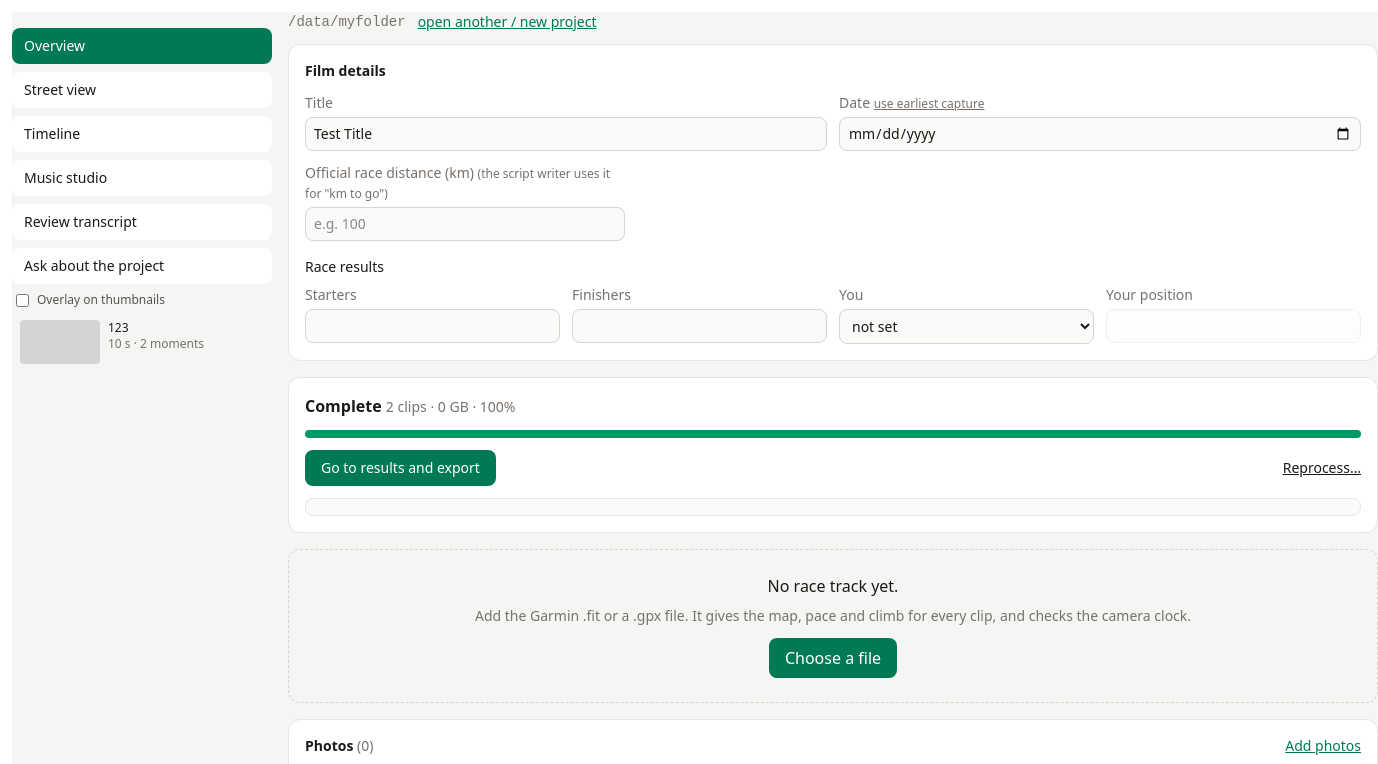
Test: Workspace › the progress panel's results button opens the timeline (film preview and final render)
Click the button "Go to results and export" at (400, 468), box [305,450,496,486]
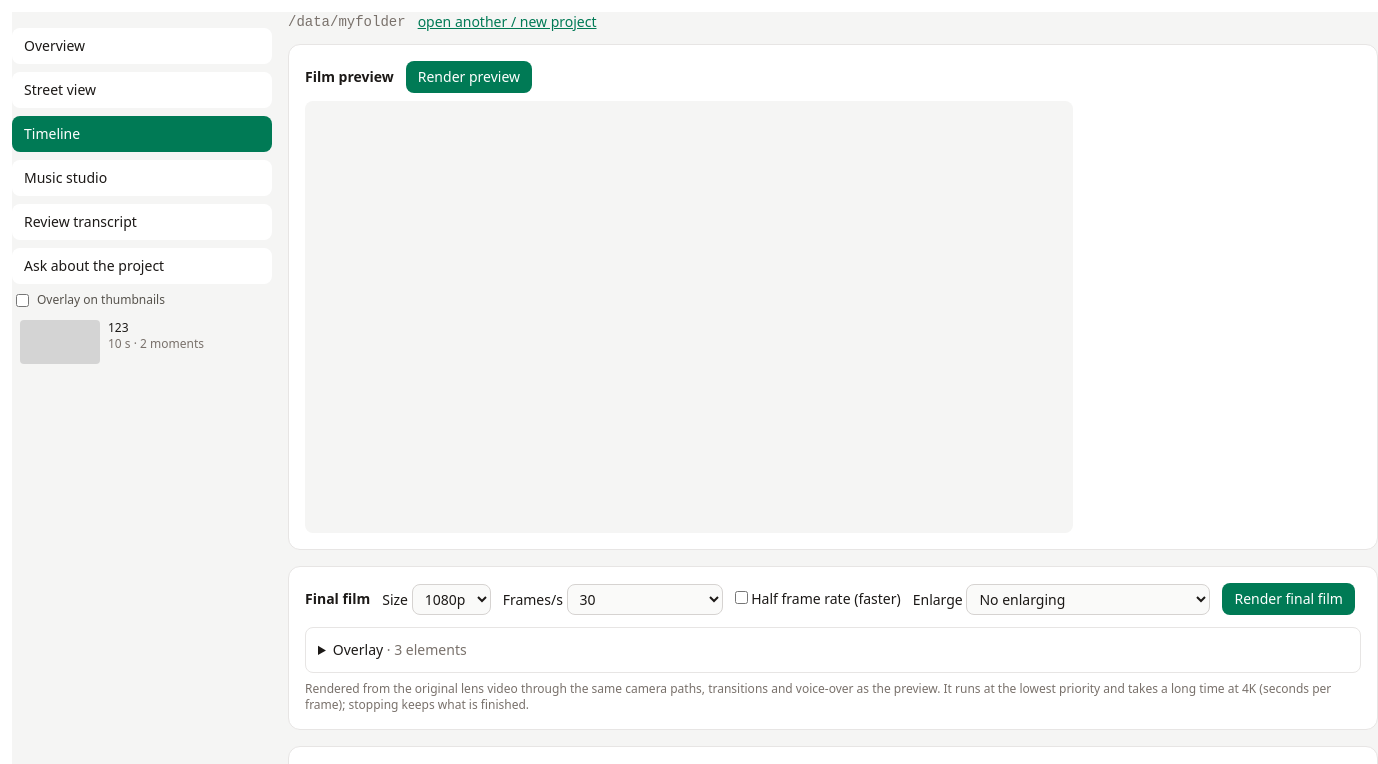
Now the heading "Film preview" is shown, box [305,67,394,87]
Now the heading "Film details" is gone
